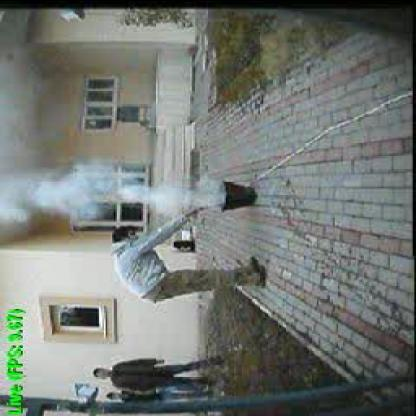Smoke: (1, 170, 215, 221)
